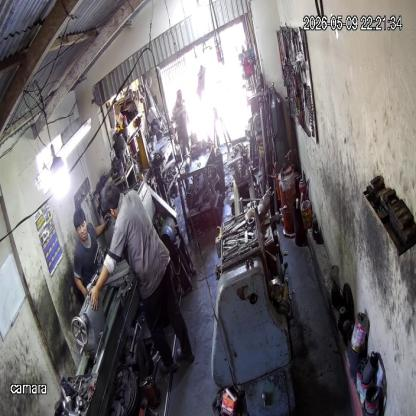sin_lentes: (76, 223, 87, 234)
